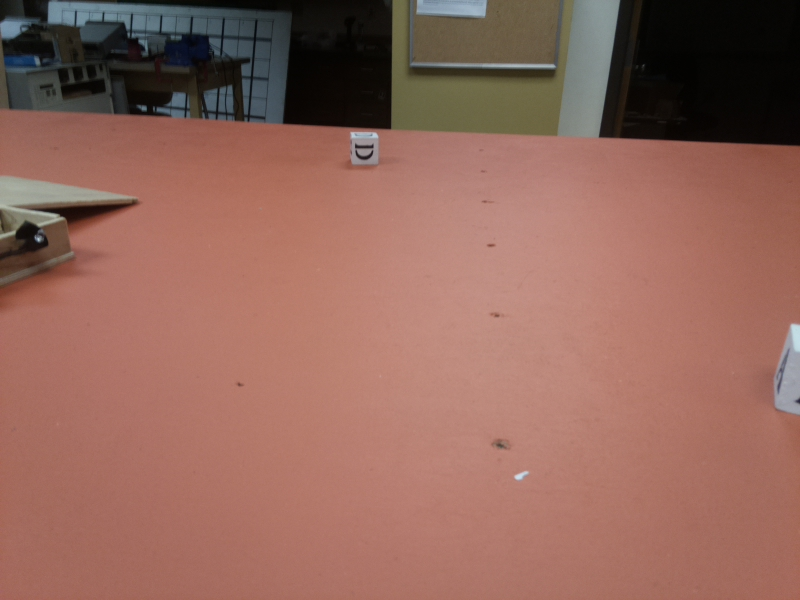blockA: (773, 318, 800, 421)
blockD: (349, 131, 380, 168)
side: (1, 208, 81, 289)
slope: (1, 167, 144, 215)
